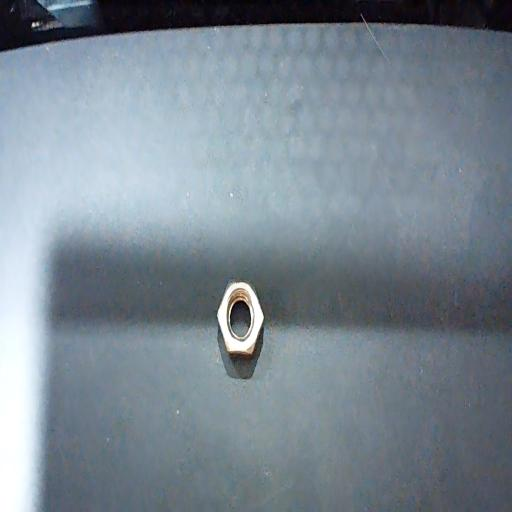nut: (217, 282, 263, 356)
